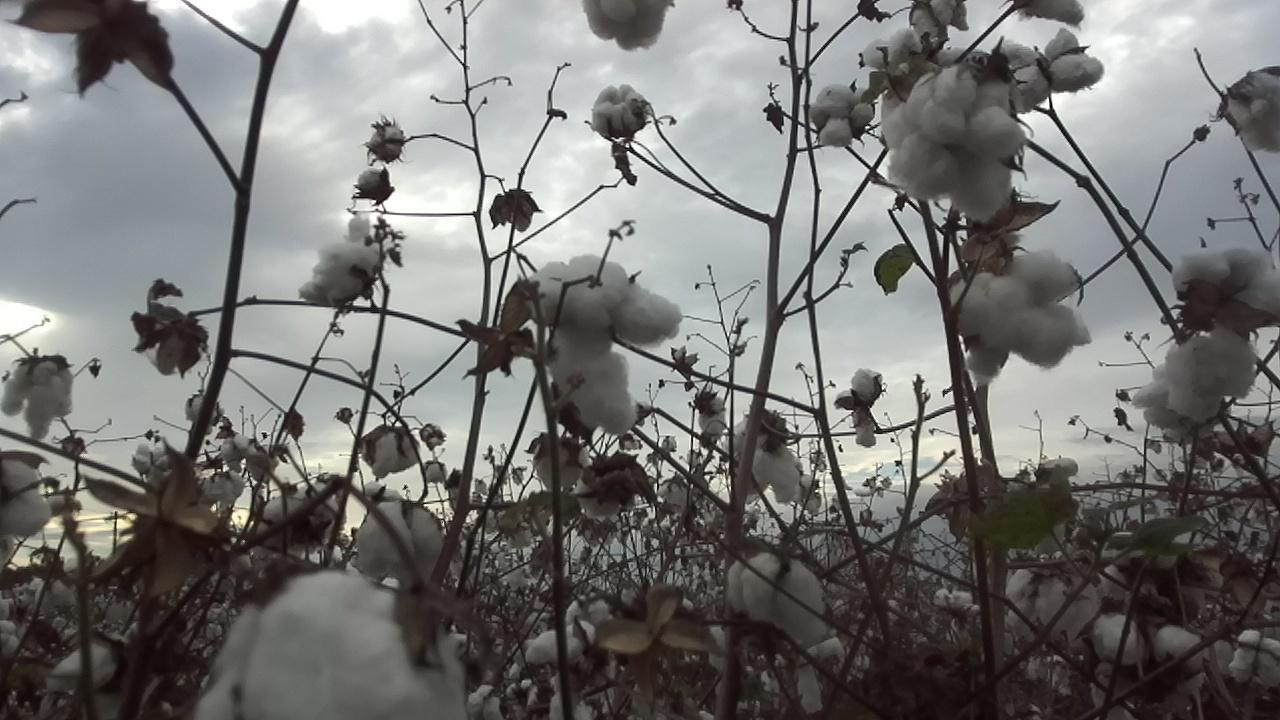cotton_ready: (193, 570, 472, 720), (524, 255, 684, 433), (884, 72, 1022, 222), (950, 247, 1095, 385), (1089, 617, 1210, 720), (1134, 330, 1257, 426), (524, 590, 609, 720), (1172, 244, 1280, 333), (727, 555, 826, 643), (1000, 30, 1105, 112), (356, 499, 452, 586), (299, 214, 379, 305), (49, 637, 132, 720), (253, 477, 340, 555), (1002, 574, 1104, 639), (0, 357, 74, 441), (730, 418, 802, 504), (581, 0, 672, 52), (1227, 72, 1280, 151), (809, 84, 874, 147), (0, 460, 50, 538), (838, 369, 882, 447), (591, 80, 644, 134), (1232, 627, 1280, 684), (913, 0, 964, 44), (862, 32, 918, 67), (1022, 0, 1085, 27)
